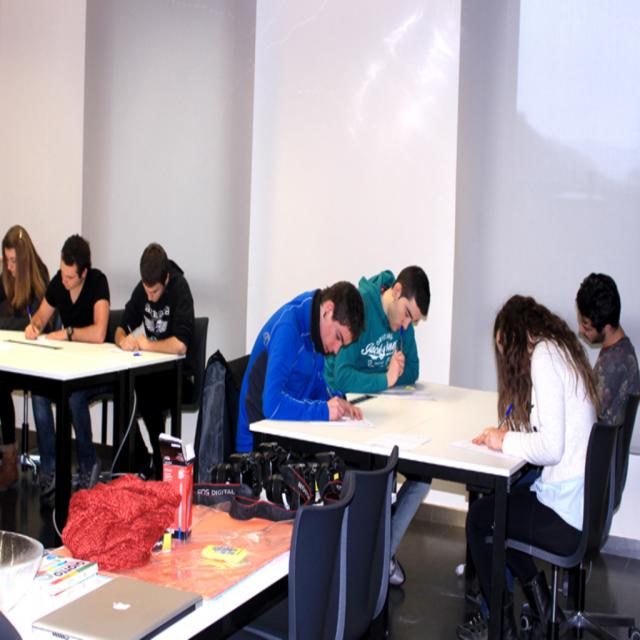chair: (504, 406, 632, 636), (253, 440, 397, 636), (159, 316, 209, 455)
desk: (248, 382, 528, 638)
person: (461, 294, 600, 634), (25, 231, 113, 536), (238, 280, 367, 453), (113, 242, 196, 479), (0, 223, 50, 496), (330, 265, 431, 395), (20, 232, 111, 344), (574, 272, 640, 424)
